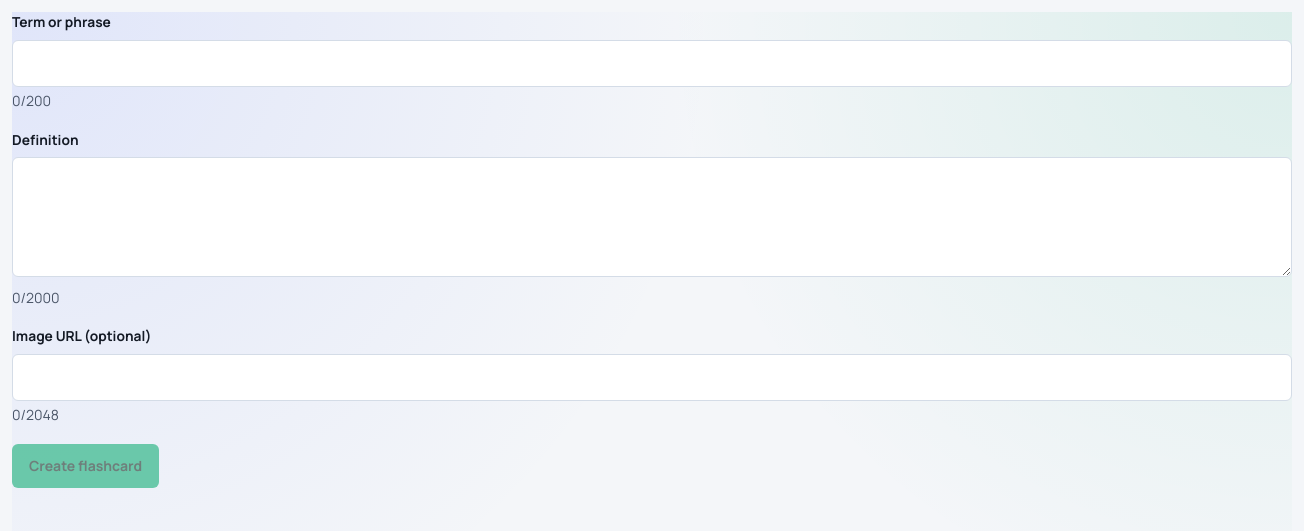
Scenario: FlashcardForm › shows validation error after term field is touched and blurred without typing
Click the field labelled "Term or phrase": (652, 63) [12,40,1292,87]
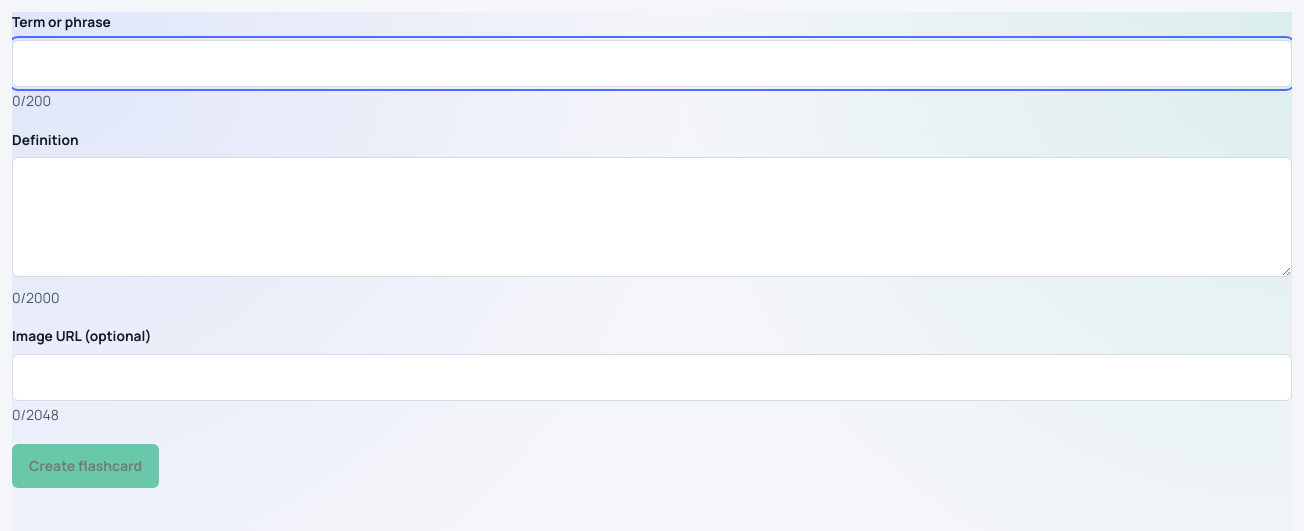
Press Tab
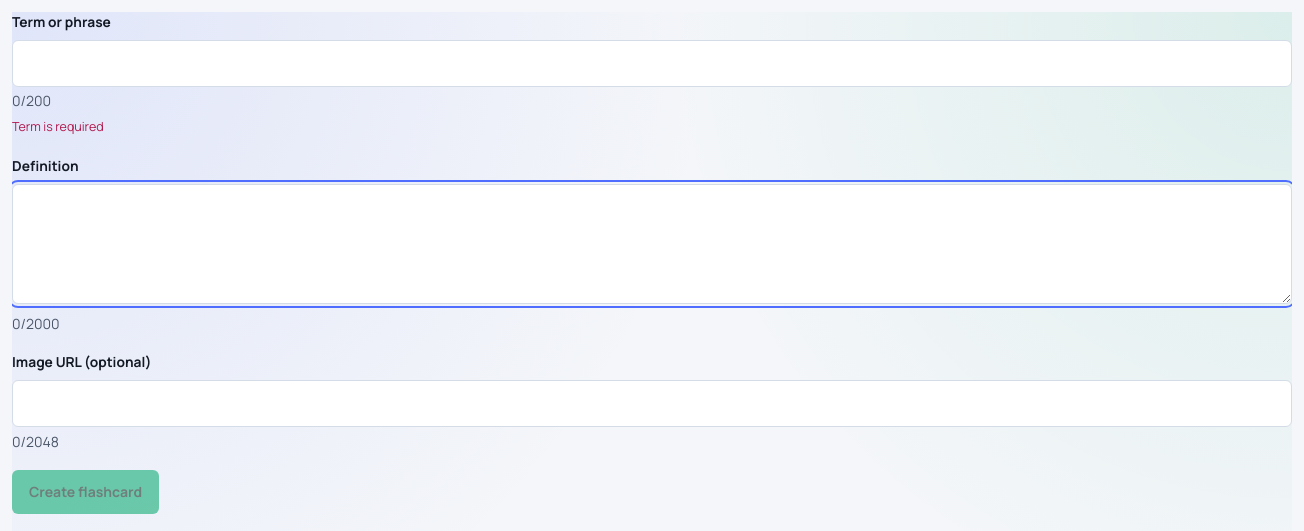
Now the text "Term is required" is shown, box [12,118,104,135]
